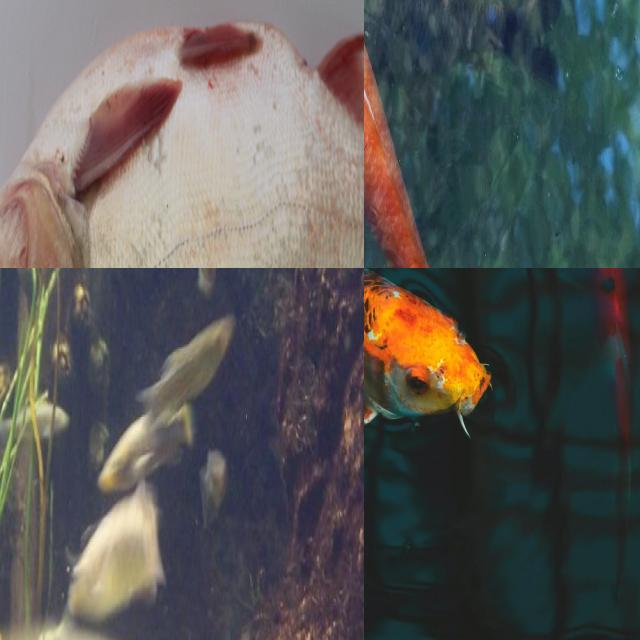fish: (364, 268, 640, 640), (0, 0, 364, 268), (364, 0, 586, 268)
